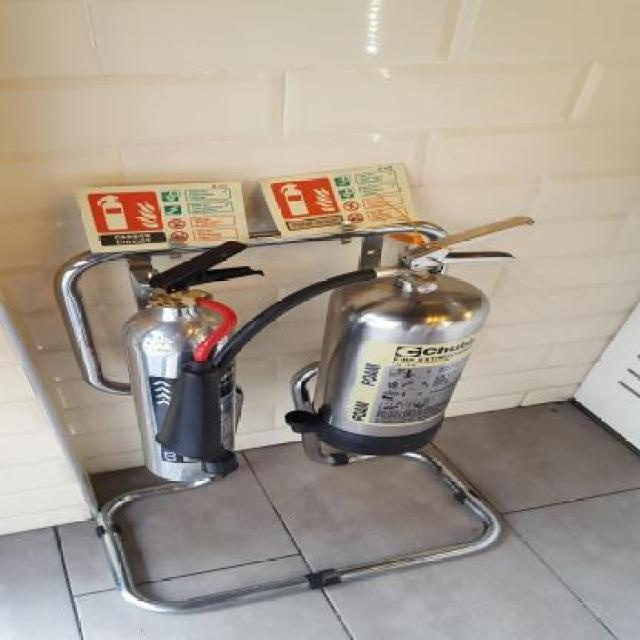fire extinguisher: (312, 214, 539, 455), (119, 241, 263, 484)
